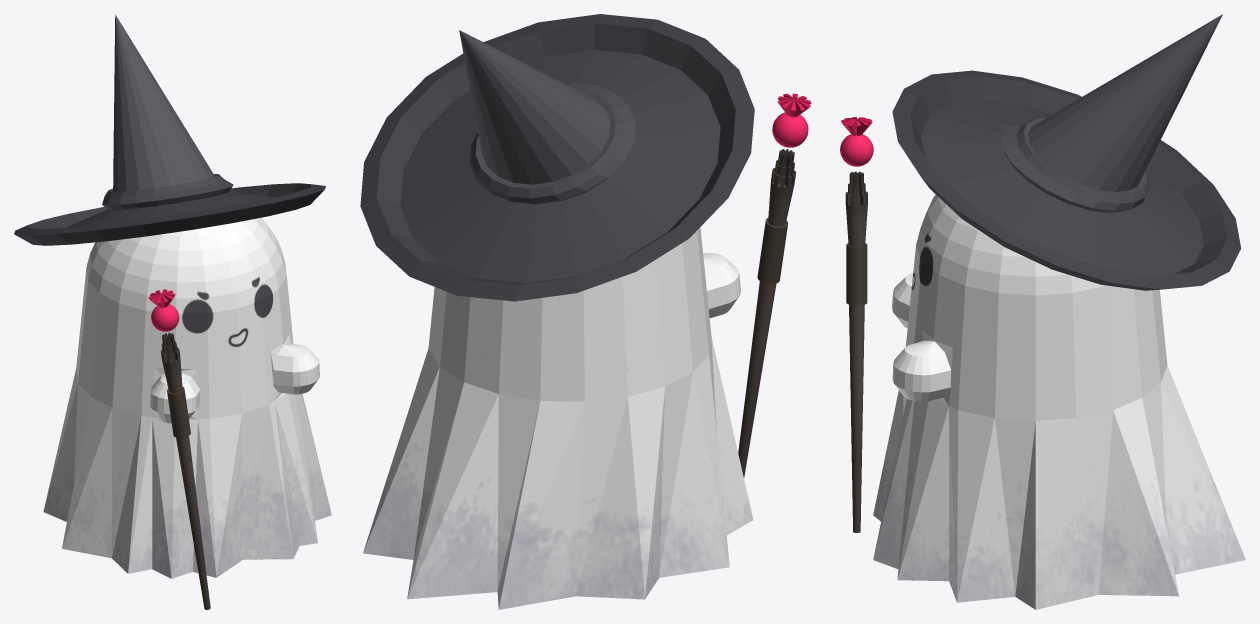
The model's file is Wizard3.fbx.
3 views of the same model, side by side, from view 1: azimuth 30°, elevation 25°; view 2: azimuth 150°, elevation 25°; view 3: azimuth 270°, elevation 25° (orthographic). The views are drawn at different scales.
Parts seen in each view (by area): view 1: polySurface2, polySurface1; view 2: polySurface2, polySurface1; view 3: polySurface2, polySurface1.
Part boxes in pixels (x1,y1,x2,y2): polySurface2: [14, 14, 331, 609]; polySurface1: [148, 289, 179, 331]; polySurface2: [360, 14, 796, 609]; polySurface1: [772, 93, 811, 147]; polySurface2: [845, 14, 1245, 609]; polySurface1: [840, 117, 873, 166].
Size of the model in its own units: 5.6 by 9.09 by 6.03.
